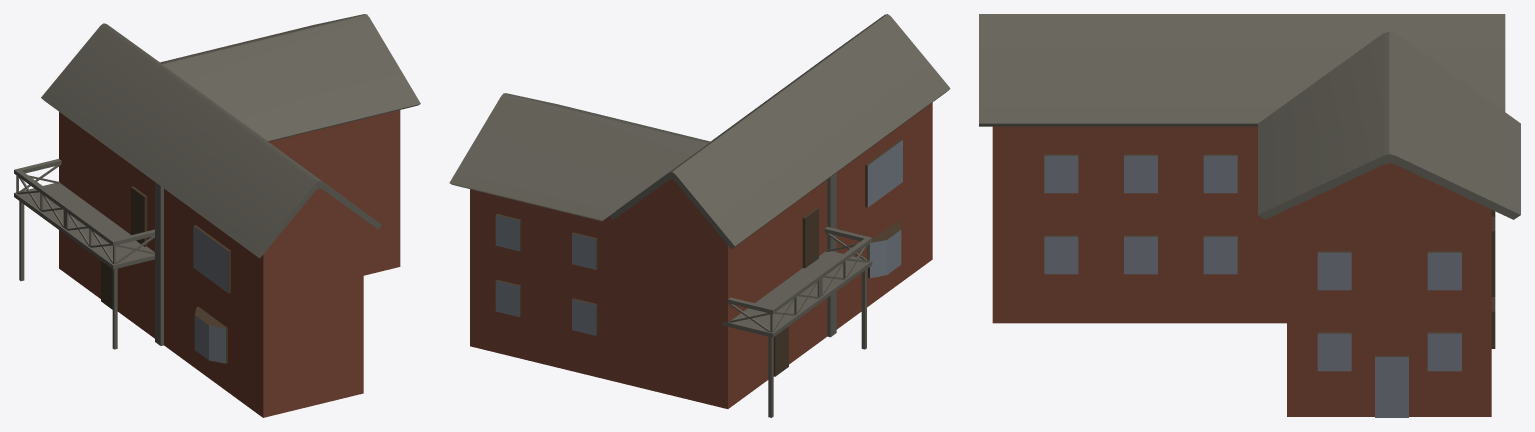
Rendered from villageBigHouse2.fbx.
The picture shows the model from 3 angles, left to right: view 1: azimuth 30°, elevation 25°; view 2: azimuth 150°, elevation 25°; view 3: azimuth 270°, elevation 25°; orthographic projection. The views are drawn at different scales.
Parts seen in each view (by area): view 1: Object, Object.028, Object.029, Object.030, Object.009, Object.011, Object.008, Object.012, Object.007, Object.010, Object.005; view 2: Object, Object.028, Object.029, Object.030, Object.009, Object.011, Object.008, Object.012, Object.016, Object.014, Object.013, Object.018 (+3 smaller); view 3: Object, Object.028, Object.029, Object.020, Object.015, Object.022, Object.017, Object.019, Object.021, Object.025, Object.027, Object.026 (+2 smaller).
Part boxes in pixels (<box>): Object: <box>59,110,400,417</box>; Object.028: <box>41,23,381,258</box>; Object.029: <box>160,14,420,141</box>; Object.030: <box>14,159,154,269</box>; Object.009: <box>193,225,230,293</box>; Object.011: <box>194,306,227,363</box>; Object.008: <box>17,165,154,263</box>; Object.012: <box>131,186,147,246</box>; Object.007: <box>101,261,112,309</box>; Object.010: <box>112,268,117,349</box>; Object.005: <box>19,201,24,281</box>; Object: <box>470,102,932,408</box>; Object.028: <box>609,14,950,249</box>; Object.029: <box>449,93,710,221</box>; Object.030: <box>723,227,872,337</box>; Object.009: <box>865,139,902,207</box>; Object.011: <box>868,221,901,278</box>; Object.008: <box>729,233,868,331</box>; Object.012: <box>802,207,818,268</box>; Object.016: <box>495,214,521,251</box>; Object.014: <box>495,279,521,317</box>; Object.013: <box>572,232,597,269</box>; Object.018: <box>572,298,597,335</box>; Object: <box>992,126,1491,416</box>; Object.028: <box>979,14,1505,126</box>; Object.029: <box>1258,31,1520,219</box>; Object.020: <box>1375,355,1408,417</box>; Object.015: <box>1317,251,1351,290</box>; Object.022: <box>1427,251,1461,290</box>; Object.017: <box>1317,332,1351,371</box>; Object.019: <box>1427,332,1461,371</box>; Object.021: <box>1203,154,1237,193</box>; Object.025: <box>1203,235,1237,274</box>; Object.027: <box>1044,154,1078,193</box>; Object.026: <box>1044,235,1078,274</box>.
Size of the model in its own units: 801 by 562 by 988.
